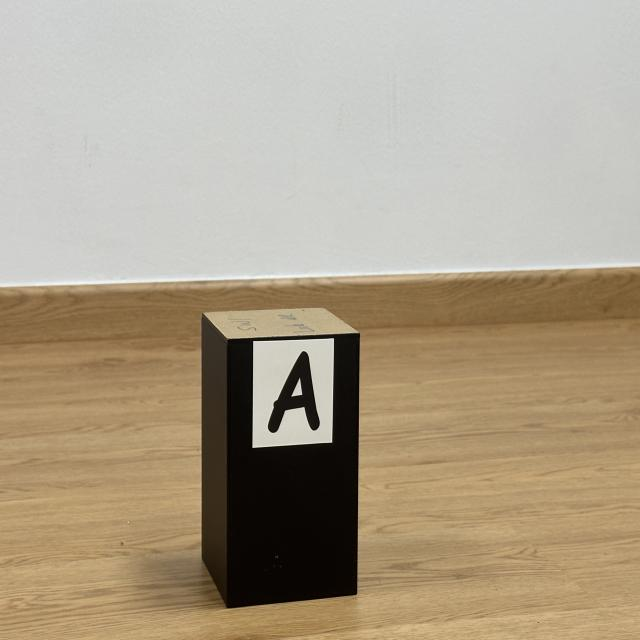A: (268, 352, 320, 433)
